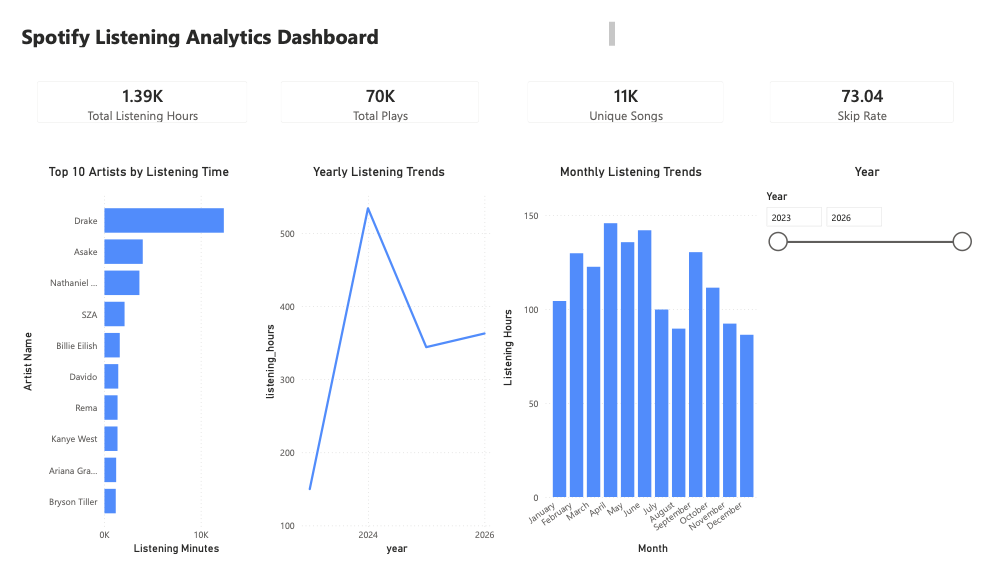

The dashboard page shown, as its layout file describes it:
{"tool":"powerbi","page":{"name":"Spotify Overview","canvas":[1280,720],"ordinal":0},"visuals":[{"type":"cardVisual","fields":{"Data":["Max(dashboard_summary.total_hours)"]},"box":[8,67,315,90],"z":0},{"type":"cardVisual","fields":{"Data":["Max(dashboard_summary.total_plays)"]},"box":[333,67,299,90],"z":1000},{"type":"cardVisual","fields":{"Data":["Max(dashboard_summary.unique_songs)"]},"box":[662,67,296,90],"z":2000},{"type":"cardVisual","fields":{"Data":["Max(dashboard_summary.skip_percentage)"]},"box":[985,67,280,90],"z":3000},{"type":"clusteredBarChart","title":"Top 10 Artists by Listening Time","fields":{"Category":["artist_performance.artist_name"],"Y":["Sum(artist_performance.total_minutes)"]},"box":[0,194.2,323.2,525.8],"z":4000},{"type":"lineChart","title":"Yearly Listening Trends","fields":{"Category":["yearly_trends 1.year"],"Y":["Sum(yearly_trends 1.listening_hours)"]},"box":[323.2,194.2,317.2,525.8],"z":5000},{"type":"clusteredColumnChart","title":"Monthly Listening Trends","fields":{"Category":["monthly_trends.month"],"Y":["Sum(monthly_trends.listening_hours)"]},"box":[640.4,194.2,354.6,525.8],"z":6000},{"type":"slicer","title":"Year","fields":{"Values":["yearly_trends 1.year"]},"box":[985.3,194.2,294.3,525.8],"z":7000},{"type":"textbox","box":[0,0,801.2,44],"z":8000}]}

Visuals, with their boxes in screenshot pixels (x1, y1, x2, y2), scaled from the page's 1280x720 canvas onto the 996x576 screenshot:
cardVisual - Max(dashboard_summary.total_hours): {"x1": 6, "y1": 54, "x2": 251, "y2": 126}
cardVisual - Max(dashboard_summary.total_plays): {"x1": 259, "y1": 54, "x2": 492, "y2": 126}
cardVisual - Max(dashboard_summary.unique_songs): {"x1": 515, "y1": 54, "x2": 745, "y2": 126}
cardVisual - Max(dashboard_summary.skip_percentage): {"x1": 766, "y1": 54, "x2": 984, "y2": 126}
"Top 10 Artists by Listening Time" clusteredBarChart: {"x1": 0, "y1": 155, "x2": 251, "y2": 575}
"Yearly Listening Trends" lineChart: {"x1": 251, "y1": 155, "x2": 498, "y2": 575}
"Monthly Listening Trends" clusteredColumnChart: {"x1": 498, "y1": 155, "x2": 774, "y2": 575}
"Year" slicer: {"x1": 767, "y1": 155, "x2": 995, "y2": 575}
textbox: {"x1": 0, "y1": 0, "x2": 623, "y2": 35}
